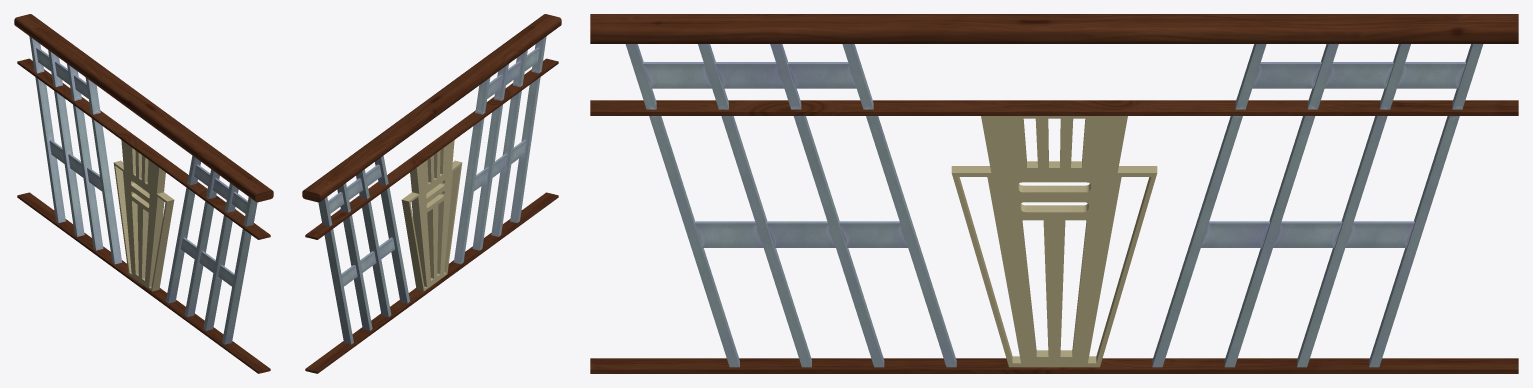
The model's file is Barrier_LP.FBX.
3 views of the same model, side by side, from view 1: azimuth 30°, elevation 25°; view 2: azimuth 150°, elevation 25°; view 3: azimuth 270°, elevation 25° (orthographic). The views are drawn at different scales.
Parts seen in each view (by area): view 1: Barrier_LP; view 2: Barrier_LP; view 3: Barrier_LP.
Boxes of the visible parts, x1,y1,x2,y2 form: Barrier_LP: (14,14,273,373); Barrier_LP: (302,14,561,373); Barrier_LP: (590,14,1518,373).
Size of what is drawn, in the model's own units: 8.83 by 200 by 82.61.
